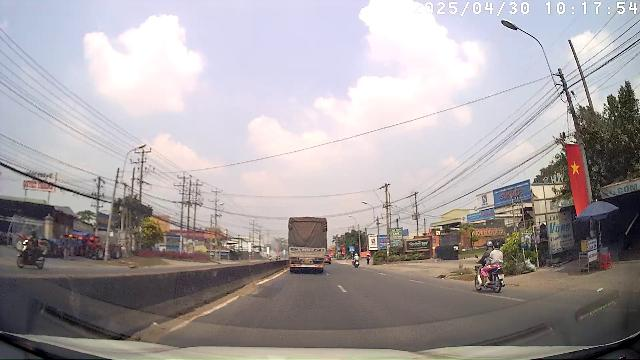423a-duong-nguoi-di-bo-sang-ngang-1: (350, 246, 354, 252)
